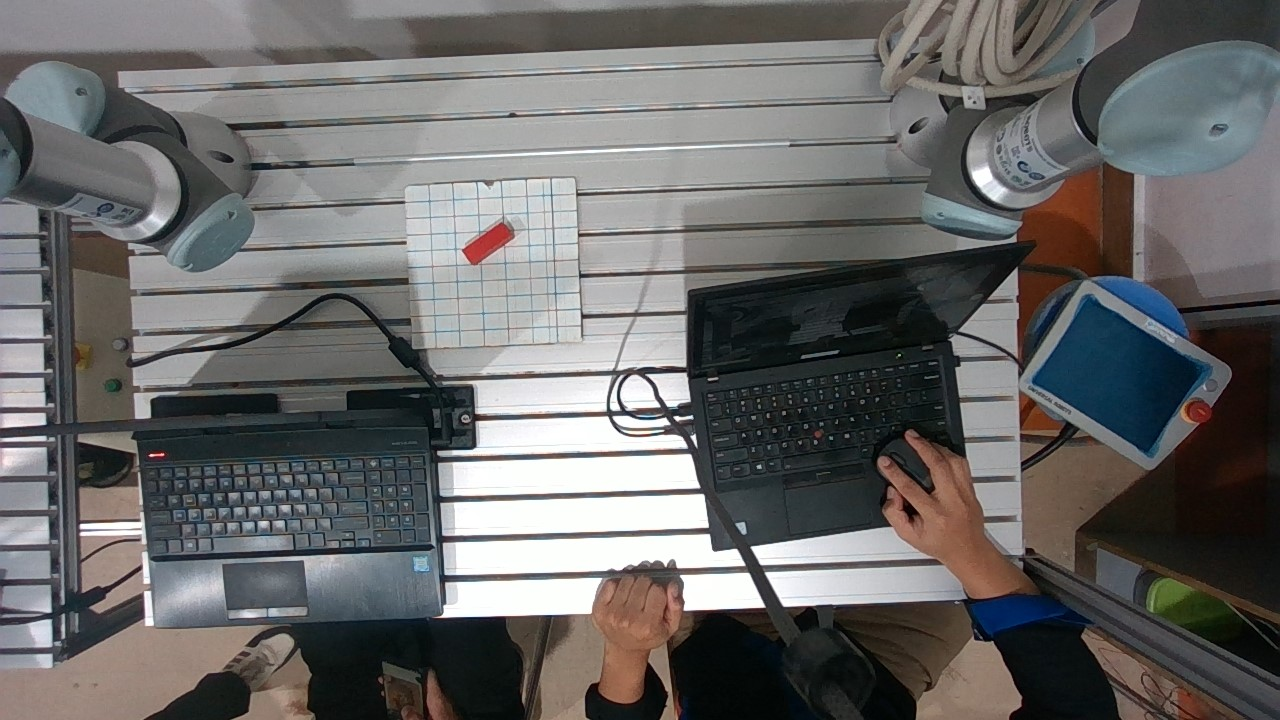box: (453, 217, 528, 266)
